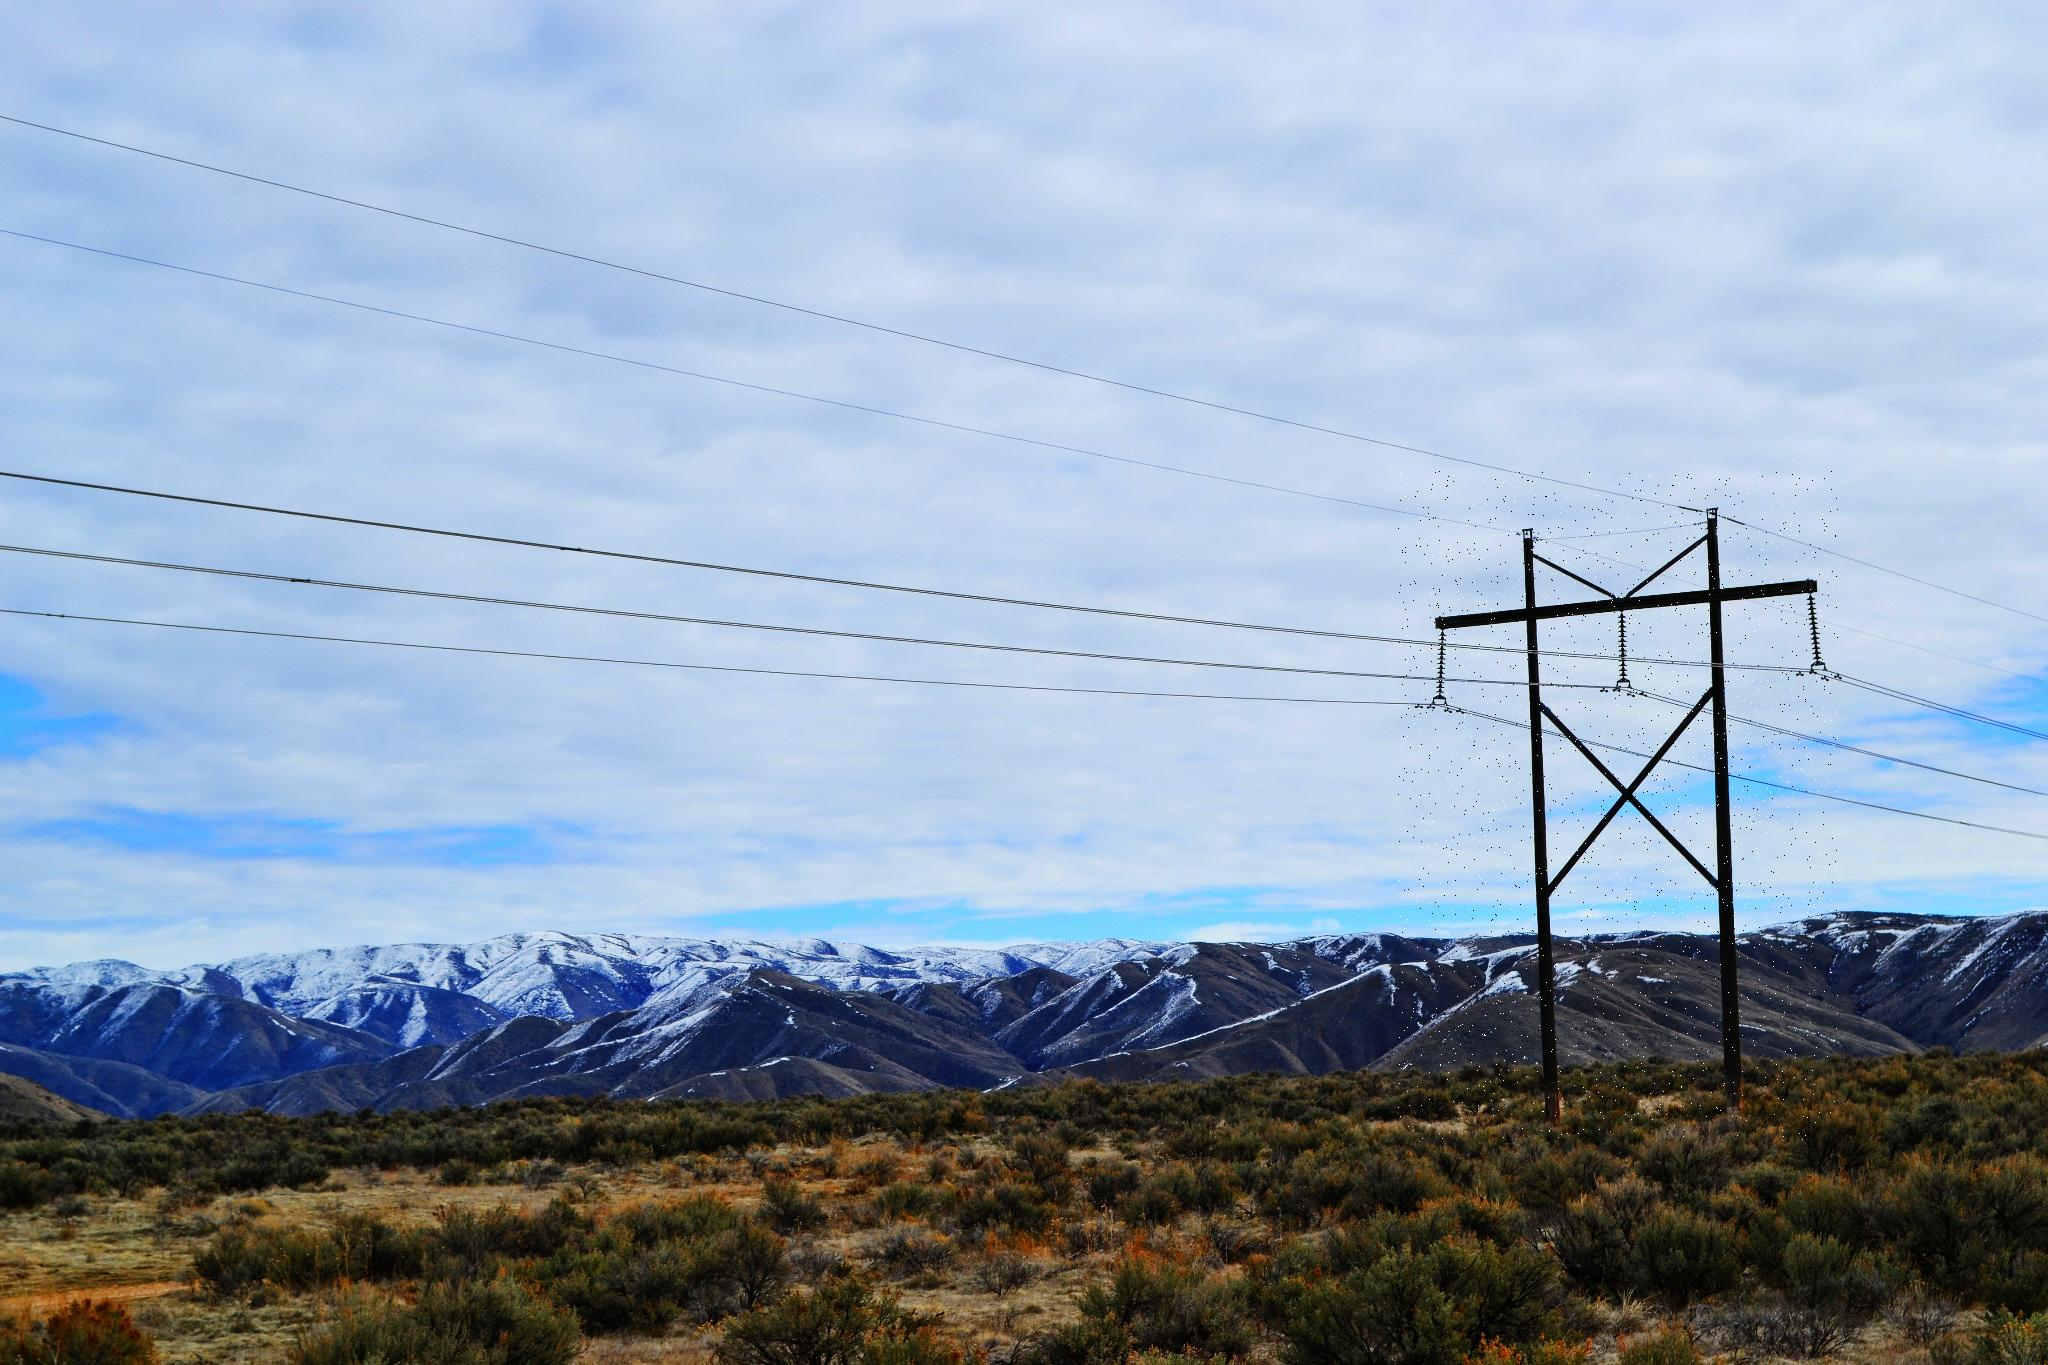cable tower: (1398, 471, 1838, 1141)
